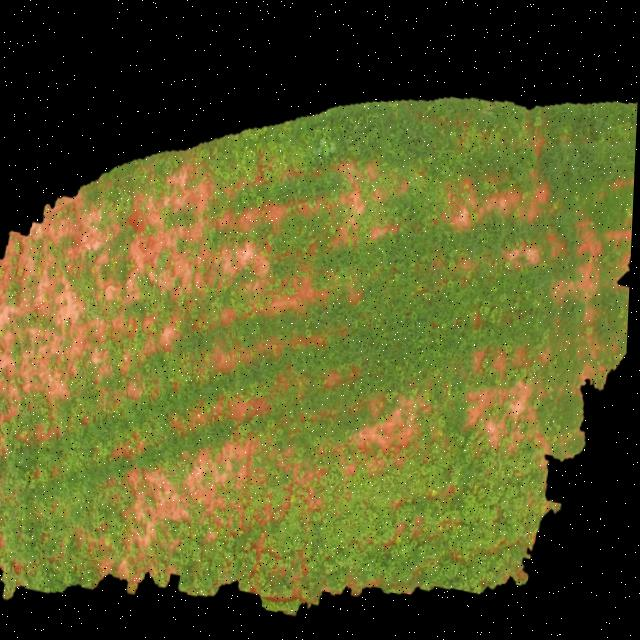Weed: (0, 90, 638, 611)
